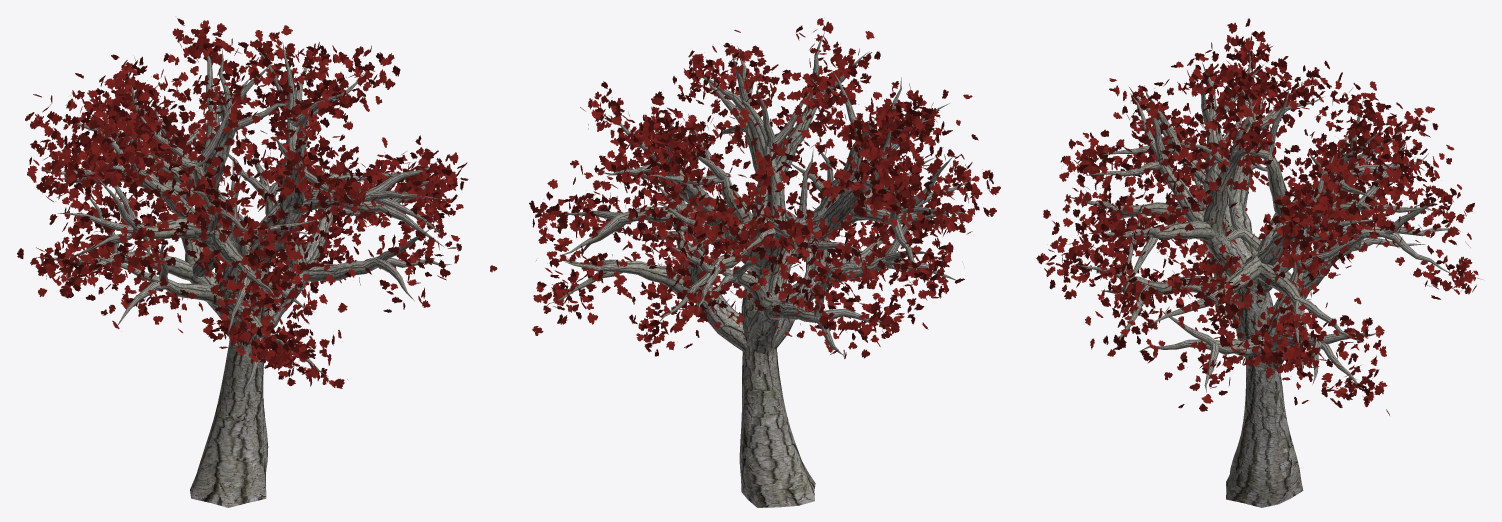
3 renders of one model, left to right at view 1: azimuth 30°, elevation 25°; view 2: azimuth 150°, elevation 25°; view 3: azimuth 270°, elevation 25°, orthographic. The views are drawn at different scales.
Visible parts, largest first — view 1: Arce foliage cards, Arce_EasyTree_V021_Proof; view 2: Arce foliage cards, Arce_EasyTree_V021_Proof; view 3: Arce foliage cards, Arce_EasyTree_V021_Proof.
Boxes of the visible parts, x1,y1,x2,y2 form: Arce foliage cards: (17,18,497,388); Arce_EasyTree_V021_Proof: (36,34,451,507); Arce foliage cards: (529,18,1000,358); Arce_EasyTree_V021_Proof: (550,32,973,507); Arce foliage cards: (1036,18,1481,415); Arce_EasyTree_V021_Proof: (1065,51,1449,507).
Bounding box in the file's own units: 6.87 × 6.75 × 6.61.
2 materials, 2 textured.
